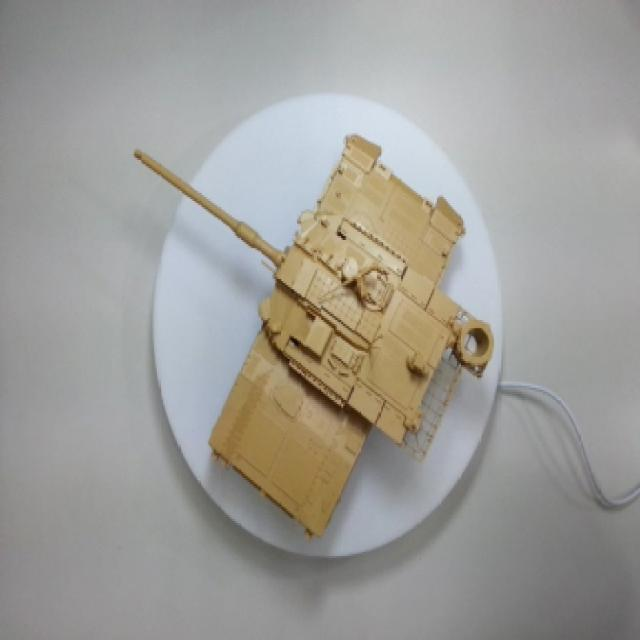korea tank: (105, 105, 509, 556)
